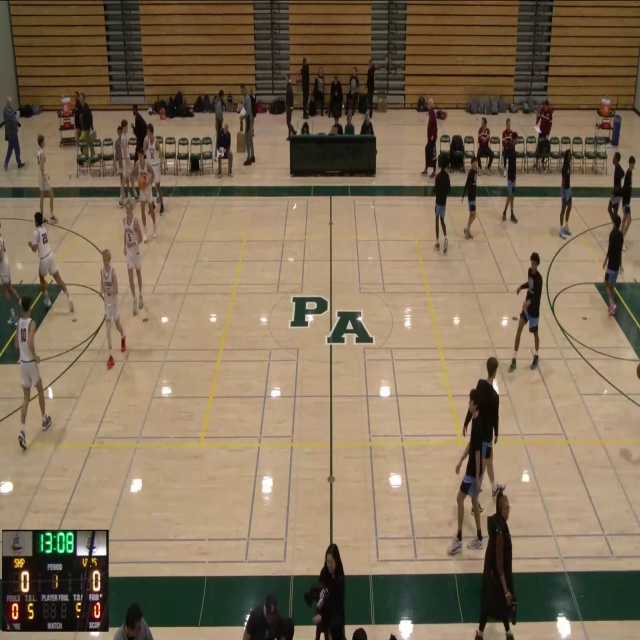Basketball: (138, 175, 146, 189)
